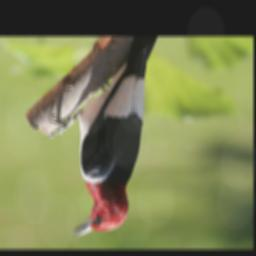Woodpecker: (64, 37, 161, 240)
